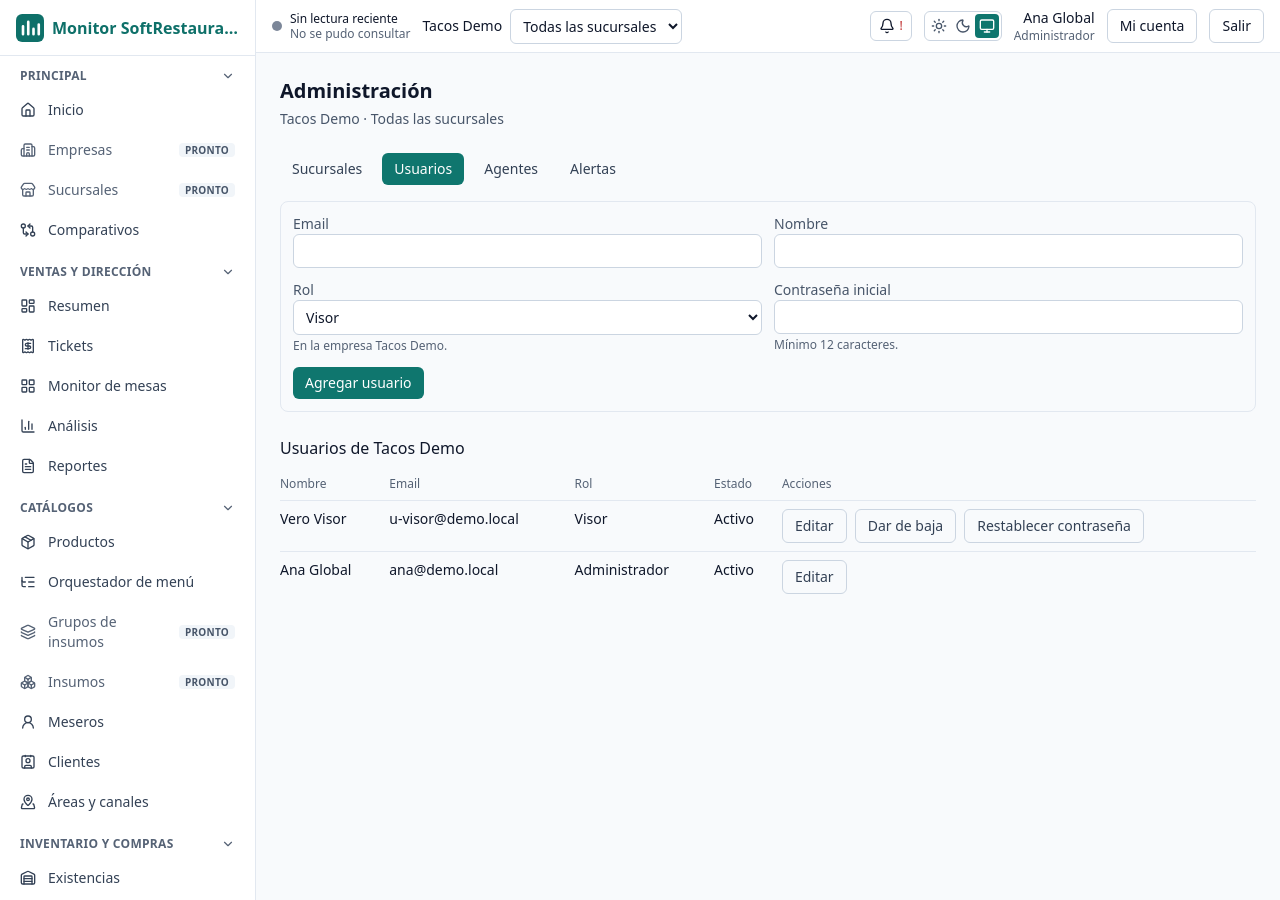
Usuarios › restablecer contraseña: manda la nueva, confirma, y un error de la API se muestra
Click the button "Restablecer contraseña".
click(1054, 526)  # box [964,509,1144,543]
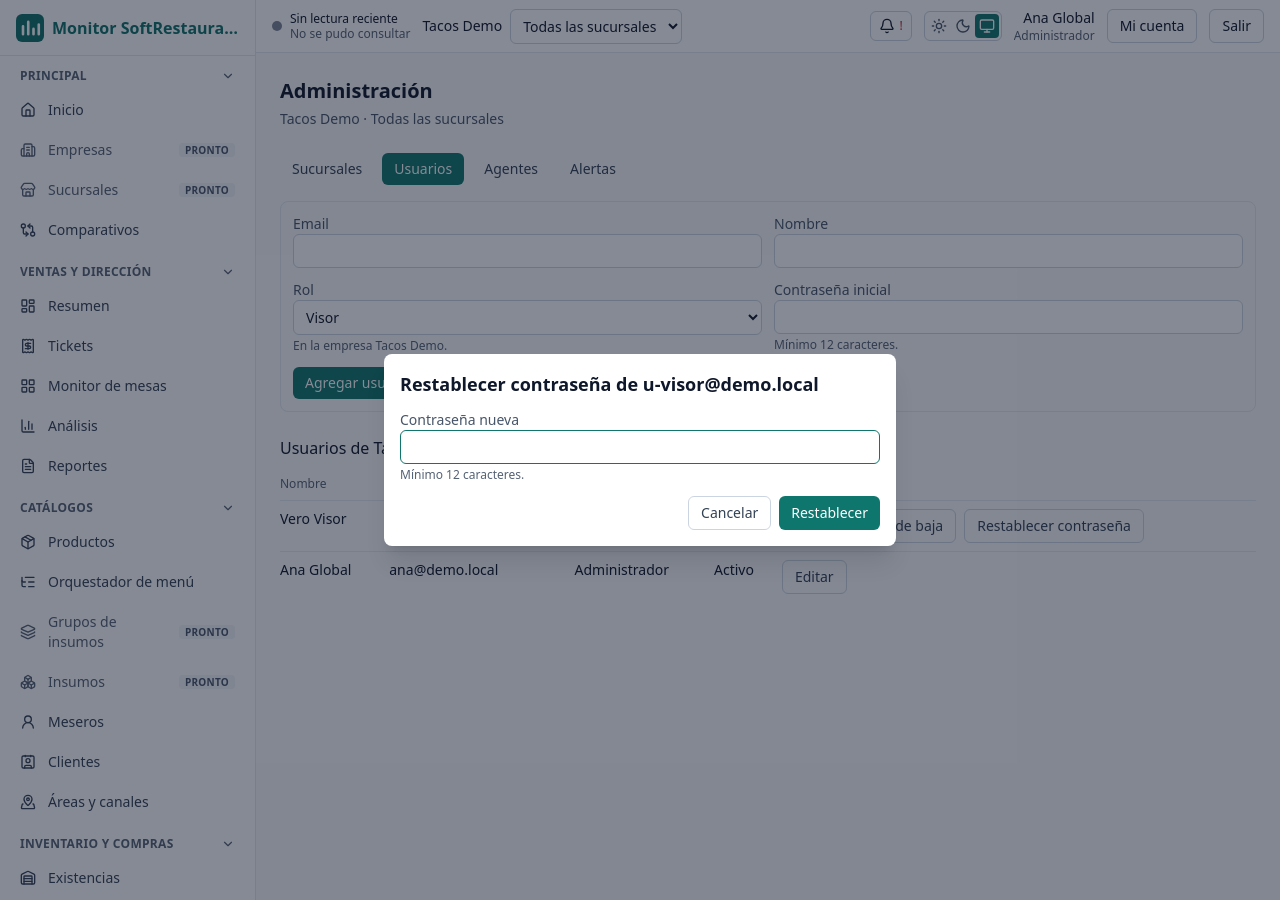
Type "contrasena-sintetica-larga" into the password field labelled "Contraseña nueva Mínimo 12 caracteres.".
click(640, 447); type("contrasena-sintetica-larga")  # box [400,430,880,464]
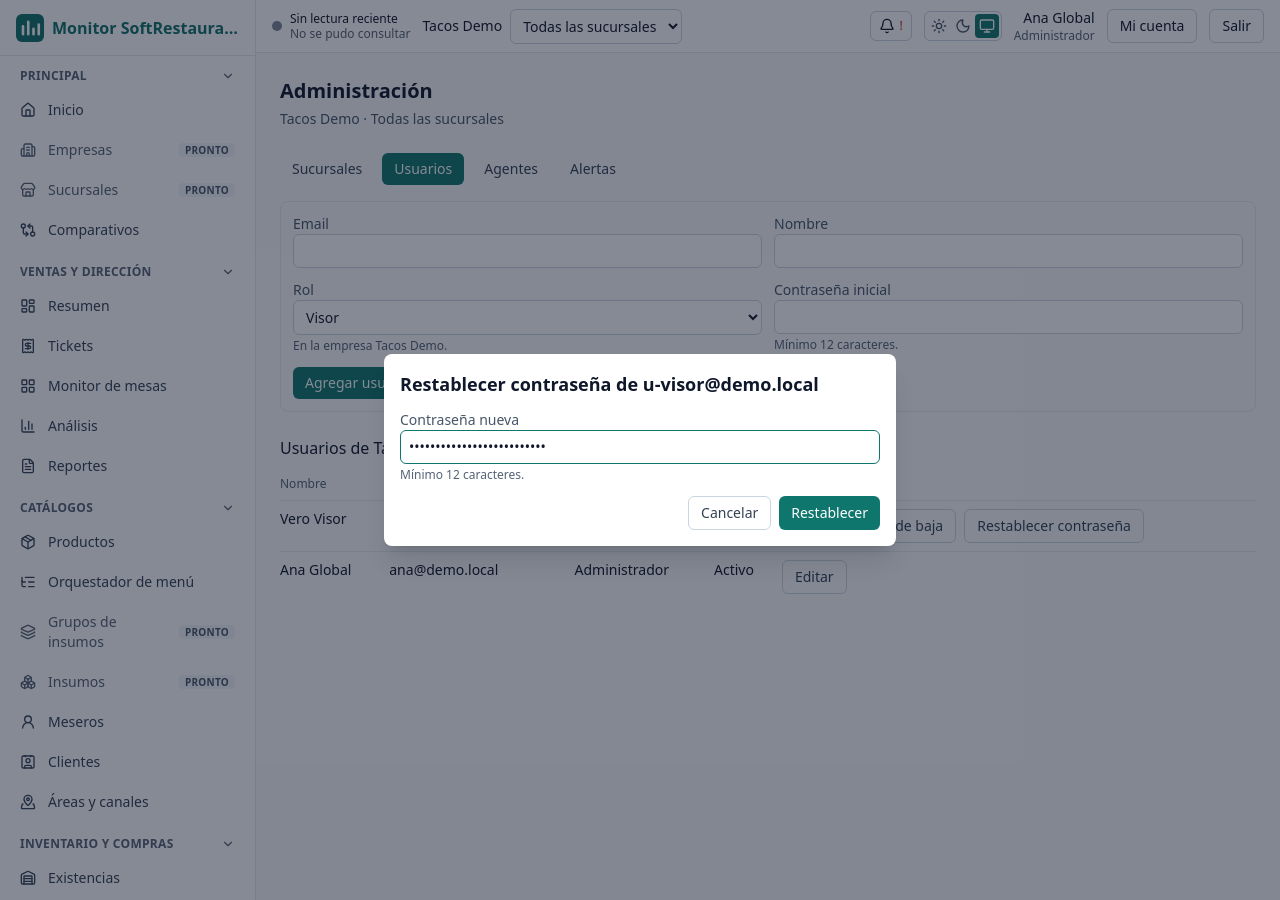
Click the button "Restablecer".
click(830, 513)  # box [779,496,880,530]
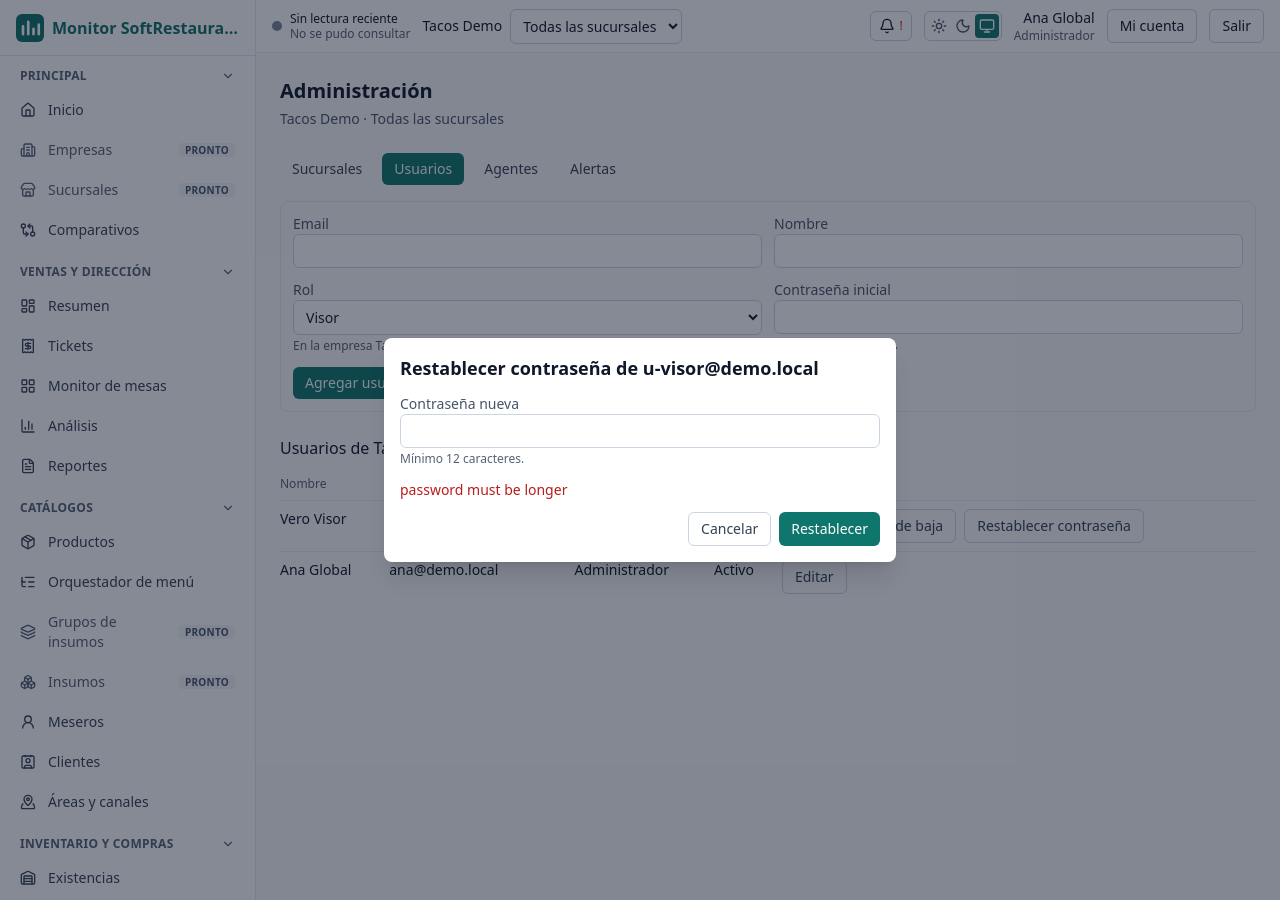
Now the message reads "password must be longer", box [400,480,567,499]
Now the password field labelled "Contraseña nueva Mínimo 12 caracteres." is empty
Type "contrasena-sintetica-larga" into the password field labelled "Contraseña nueva Mínimo 12 caracteres.".
click(640, 431); type("contrasena-sintetica-larga")  # box [400,414,880,448]
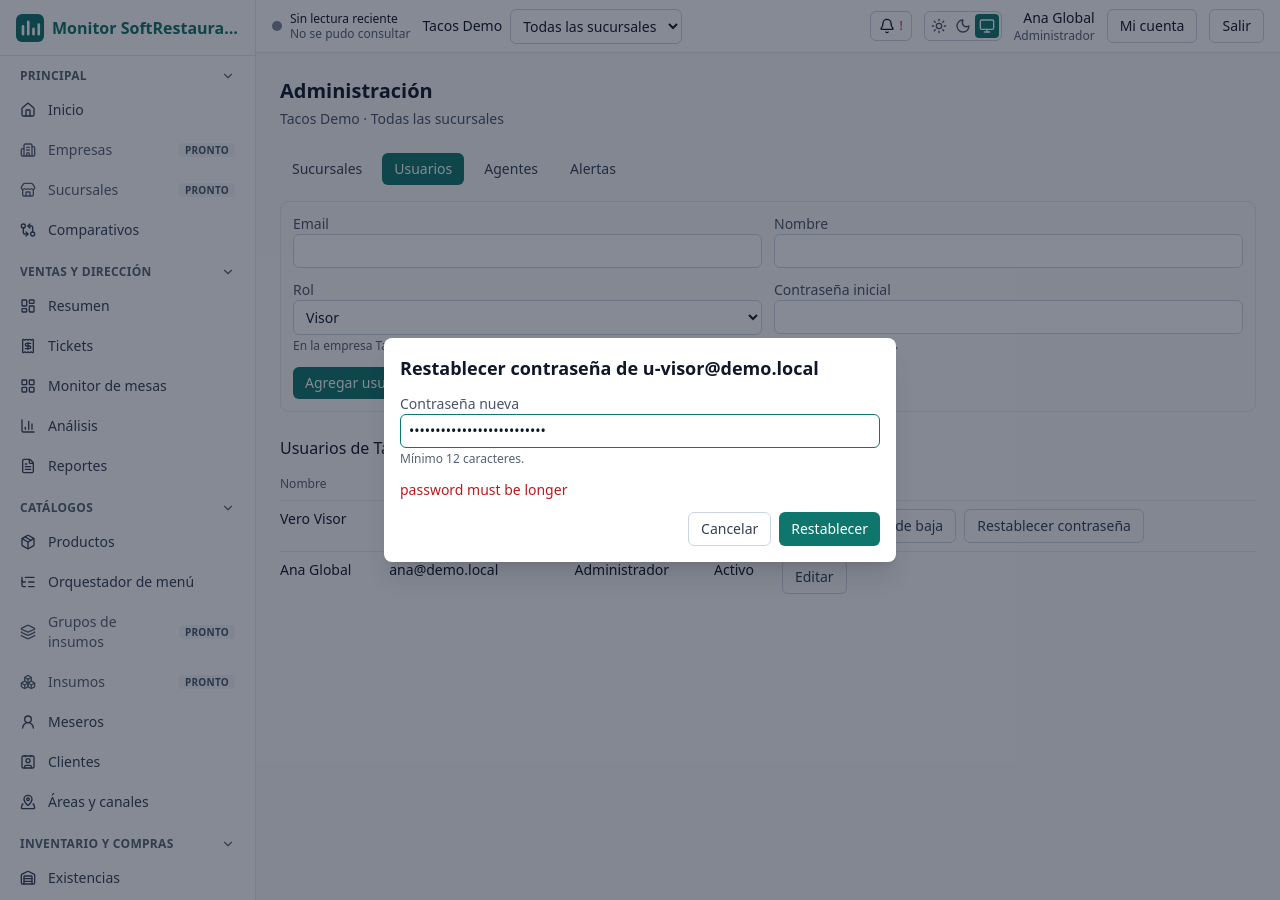
Click the button "Restablecer".
click(830, 529)  # box [779,512,880,546]
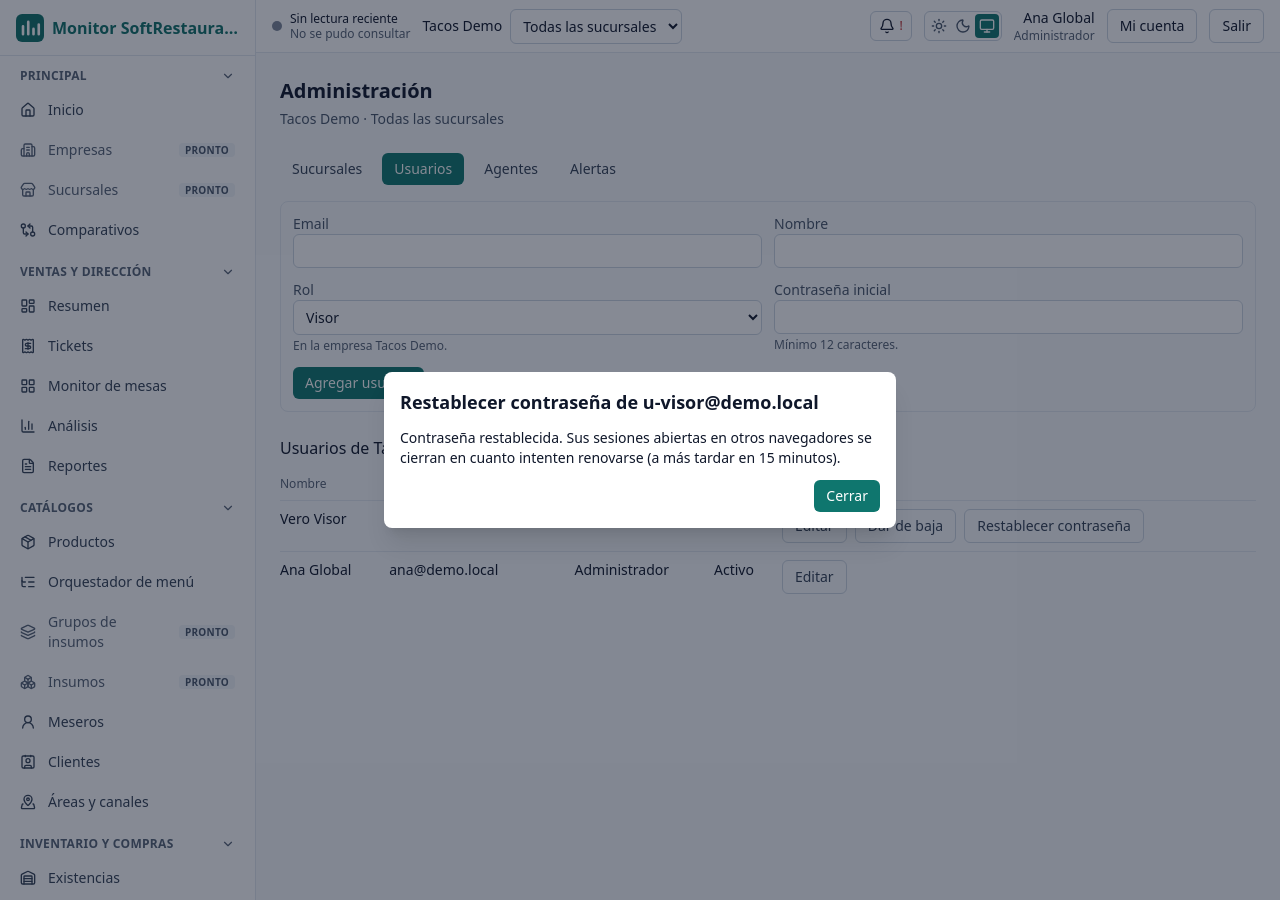
Now the message shows "Contraseña restablecida", box [400,428,872,467]
